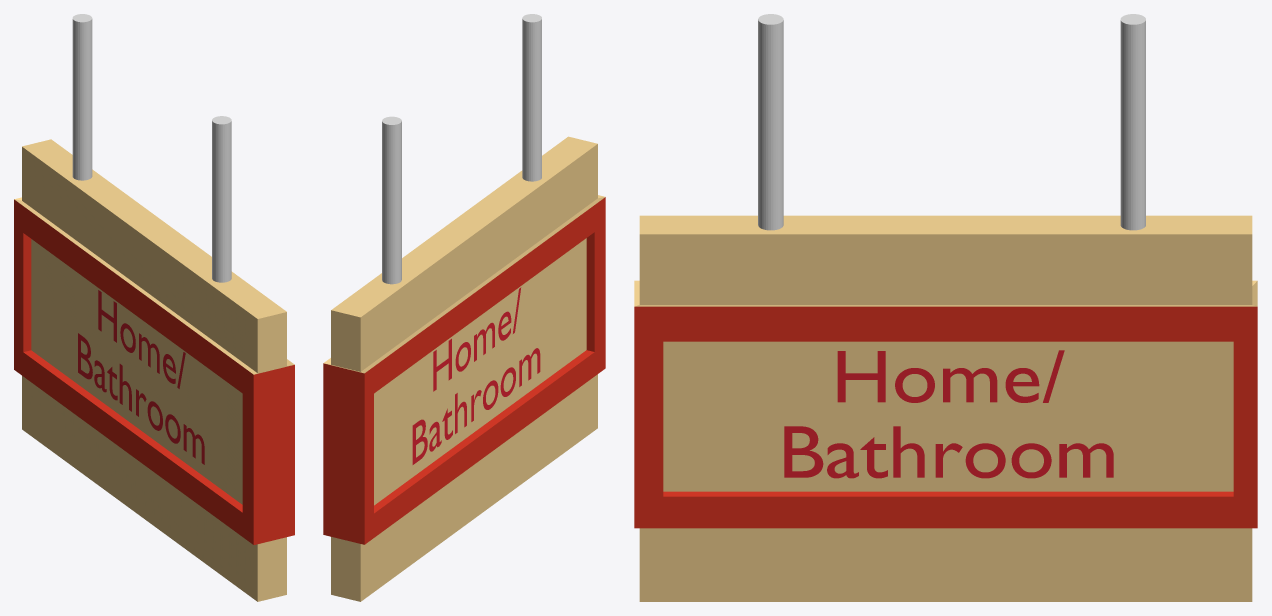
The model's file is homeSign.fbx.
The picture shows the model from 3 angles, left to right: view 1: azimuth 30°, elevation 25°; view 2: azimuth 150°, elevation 25°; view 3: azimuth 270°, elevation 25°; orthographic projection. The views are drawn at different scales.
Parts seen in each view (by area): view 1: baseSign, Cylinder.001, Cylinder.000, BaseText.001; view 2: baseSign, Cylinder.001, Cylinder.000, BaseText.001; view 3: baseSign, BaseText.000, Cylinder.001, Cylinder.000.
Part boxes in pixels (box(x1,y1,x2,y2)): baseSign: box(14, 139, 294, 601); Cylinder.001: box(72, 14, 92, 180); Cylinder.000: box(212, 116, 231, 282); BaseText.001: box(78, 290, 204, 464); baseSign: box(323, 136, 605, 601); Cylinder.001: box(382, 116, 401, 284); Cylinder.000: box(522, 14, 541, 181); BaseText.001: box(412, 287, 540, 464); baseSign: box(634, 215, 1257, 601); BaseText.000: box(784, 350, 1113, 478); Cylinder.001: box(1120, 14, 1145, 230); Cylinder.000: box(758, 14, 783, 230).
Size of the model in its own units: 42.35 by 434 by 427.
